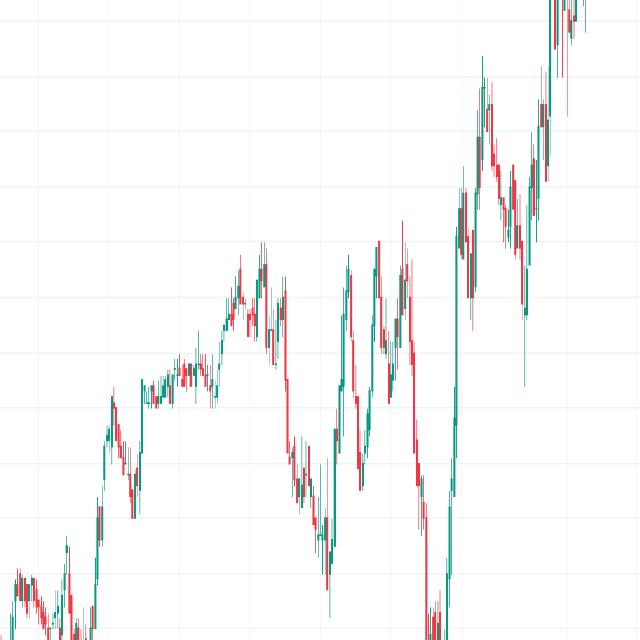Triple-Top: (321, 221, 430, 412)
